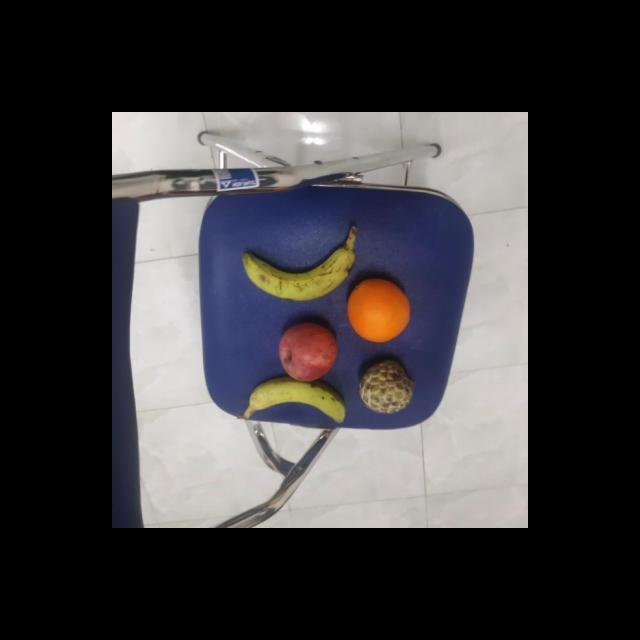Sakya fruit: (358, 362, 413, 416)
apple: (276, 320, 340, 383)
banana: (242, 242, 356, 305), (246, 378, 354, 432)
orange: (344, 276, 414, 344)
